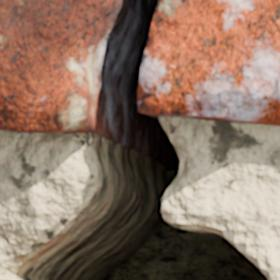broken_brick: (139, 0, 279, 126), (0, 0, 111, 133)
crack: (0, 0, 278, 279)
